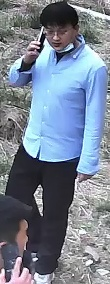phone: (8, 0, 81, 84)
